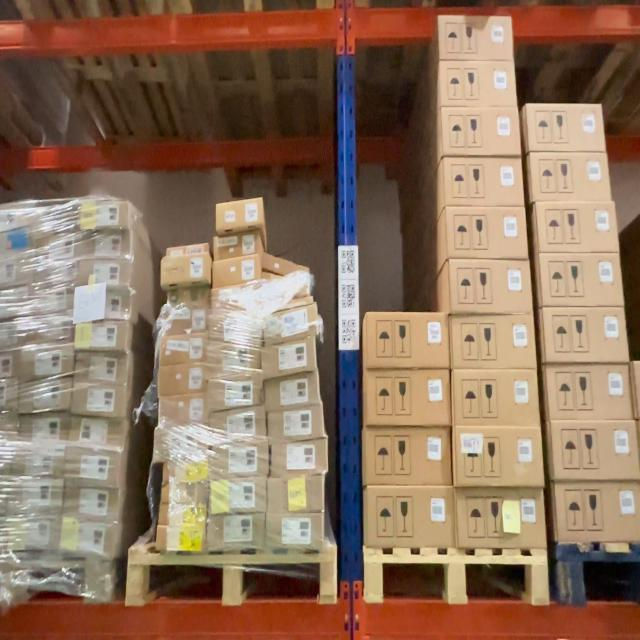box: (549, 420, 640, 479), (366, 486, 454, 546), (456, 428, 544, 487), (457, 490, 545, 548), (556, 482, 640, 540), (364, 429, 452, 483), (546, 366, 632, 421), (366, 370, 451, 425), (366, 312, 448, 368), (448, 261, 532, 315), (544, 308, 628, 362), (456, 371, 539, 425), (452, 316, 535, 368), (540, 255, 622, 306), (538, 204, 620, 254), (448, 208, 527, 258), (446, 159, 524, 208), (533, 154, 611, 202), (441, 109, 519, 156), (439, 61, 515, 107), (529, 104, 605, 150), (440, 15, 512, 61), (266, 514, 324, 551), (75, 352, 130, 391), (210, 440, 266, 477), (270, 440, 326, 477), (76, 282, 132, 319), (267, 476, 324, 512), (207, 516, 264, 552), (209, 373, 263, 411), (262, 340, 316, 377), (260, 306, 314, 342), (65, 488, 118, 524), (267, 407, 323, 441), (265, 375, 320, 409), (210, 481, 264, 515), (9, 518, 63, 552), (212, 409, 266, 442), (158, 429, 210, 463), (62, 522, 114, 556), (22, 349, 73, 383), (10, 484, 64, 516), (70, 418, 122, 451), (209, 342, 262, 374), (20, 379, 71, 412), (77, 257, 131, 288), (19, 417, 70, 449), (161, 330, 210, 363), (76, 320, 129, 350), (160, 364, 209, 396), (22, 317, 75, 346), (160, 396, 208, 428), (210, 312, 259, 343), (78, 232, 132, 260), (17, 448, 66, 478), (217, 200, 264, 231), (260, 279, 312, 307), (80, 201, 130, 230), (29, 284, 72, 314), (164, 255, 210, 283), (165, 286, 210, 314), (214, 234, 261, 260), (214, 258, 259, 285), (157, 528, 206, 552), (212, 286, 258, 310), (159, 504, 206, 527), (166, 481, 207, 507), (262, 253, 308, 276), (164, 463, 210, 484), (1, 258, 30, 289), (169, 243, 209, 256), (1, 353, 19, 381), (1, 323, 19, 351)
